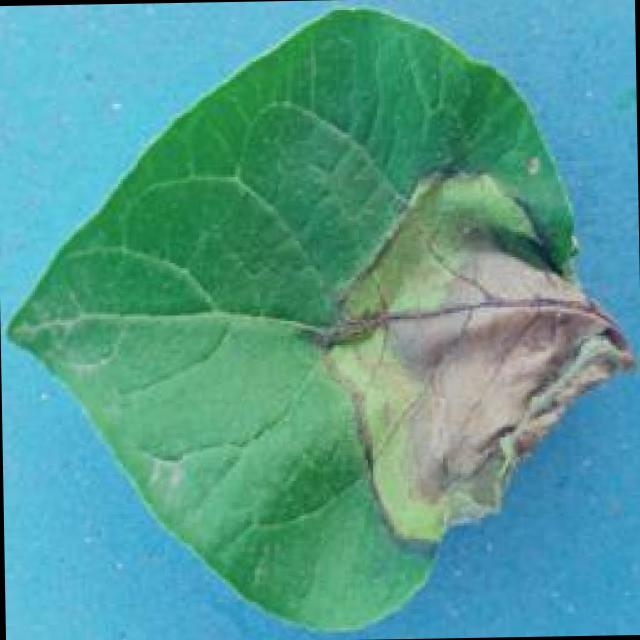Potato_Late_Blight: (5, 4, 634, 639)
